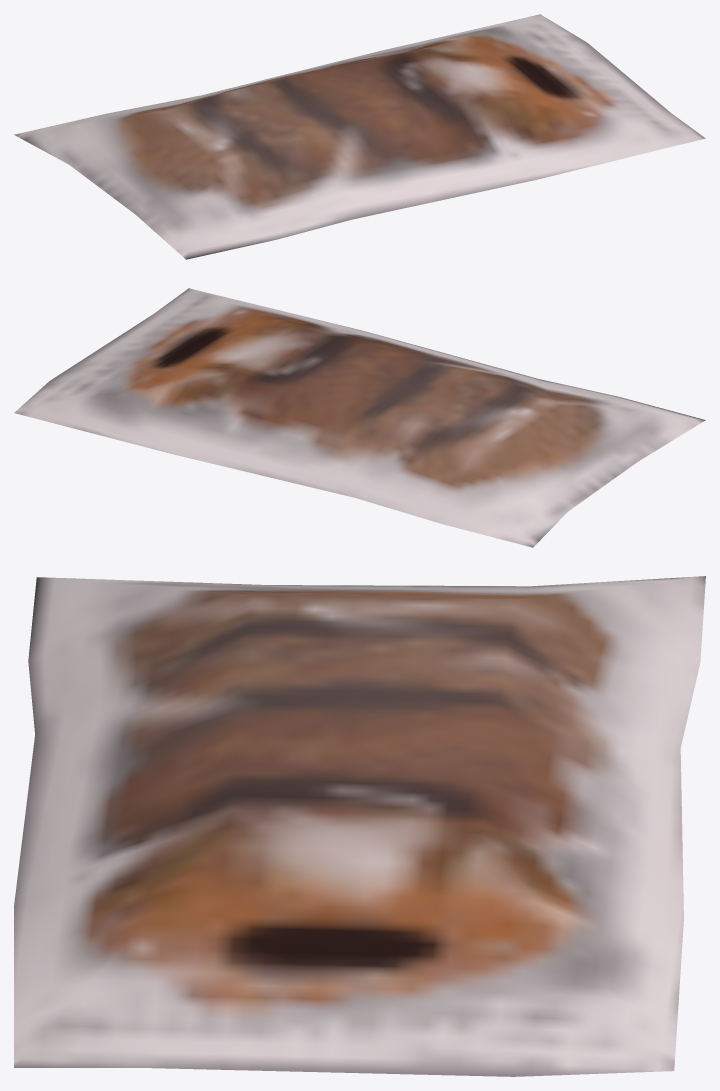
The model's file is dagasi07a.fbx.
The picture shows the model from 3 angles, top to bottom: view 1: azimuth 30°, elevation 25°; view 2: azimuth 150°, elevation 25°; view 3: azimuth 270°, elevation 25°; orthographic projection. The views are drawn at different scales.
Visible parts, largest first — view 1: dagasi07a; view 2: dagasi07a; view 3: dagasi07a.
Boxes of the visible parts, x1,y1,x2,y2 form: dagasi07a: (14,14,705,259); dagasi07a: (14,288,705,547); dagasi07a: (14,576,705,1076).
Size of the model in its own units: 28.6 by 4.26 by 16.7.
